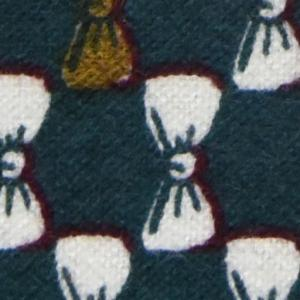Oil Stain: (61, 1, 138, 97)
